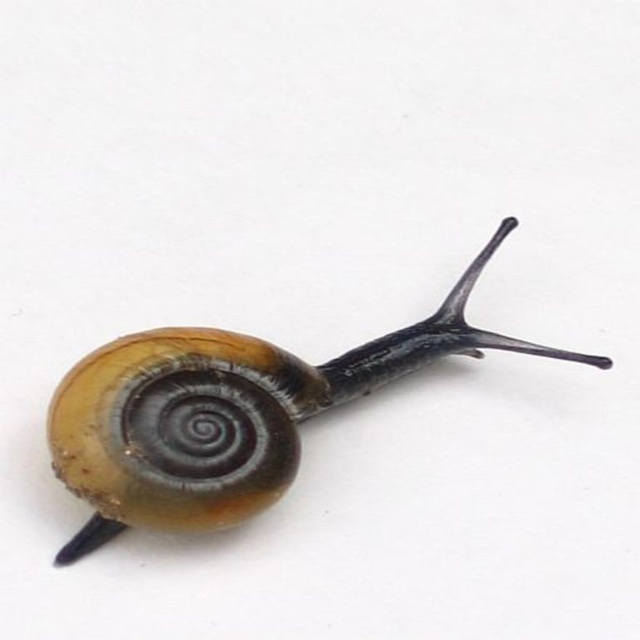Snail: (42, 213, 616, 567)
